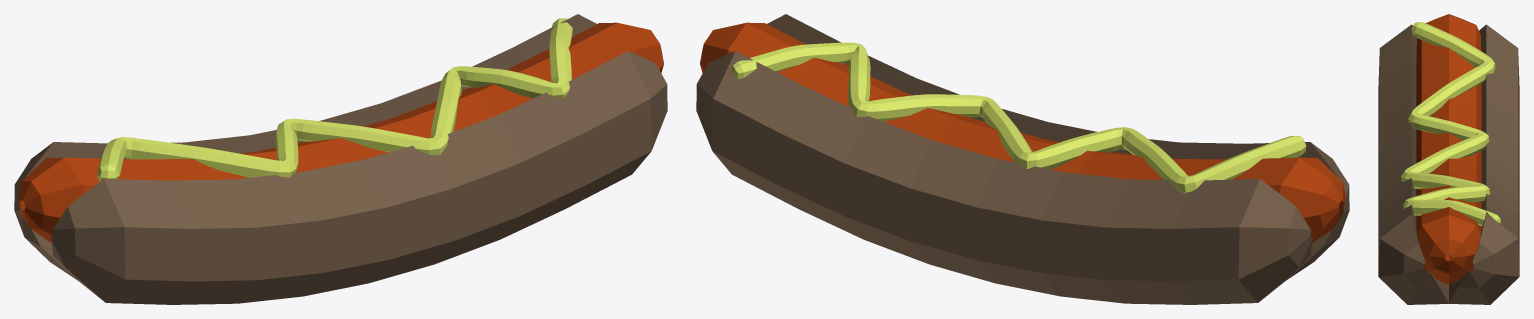
Rendered from hotdog.glb.
3 renders of one model, left to right at view 1: azimuth 30°, elevation 25°; view 2: azimuth 150°, elevation 25°; view 3: azimuth 270°, elevation 25°, orthographic. The views are drawn at different scales.
Visible parts, largest first — view 1: Hotdog; view 2: Hotdog; view 3: Hotdog.
Part boxes in pixels (x1=…): Hotdog: x1=14, y1=14, x2=667, y2=304; Hotdog: x1=696, y1=14, x2=1349, y2=304; Hotdog: x1=1378, y1=14, x2=1519, y2=304.
Size of the model in its own units: 6.51 by 1.7 by 1.69.
